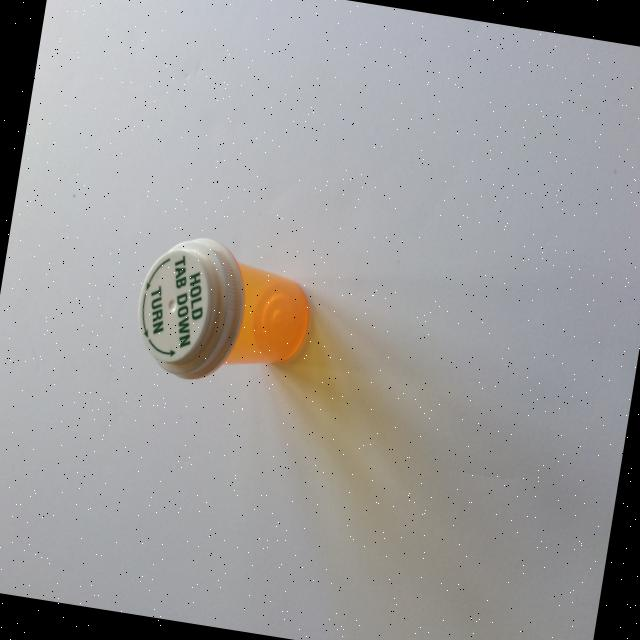plastic: (126, 227, 320, 397)
